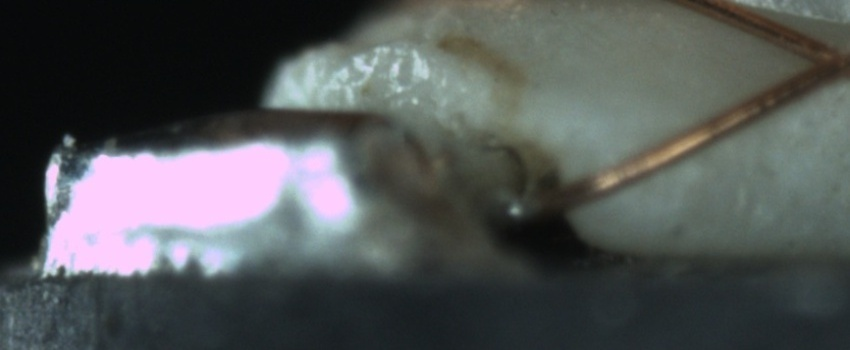CL: (779, 23, 847, 96)
